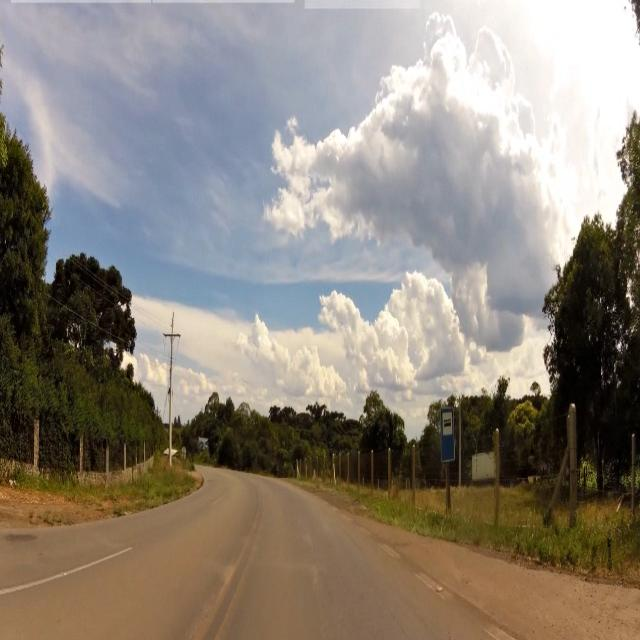S-14: (439, 408, 456, 467)
